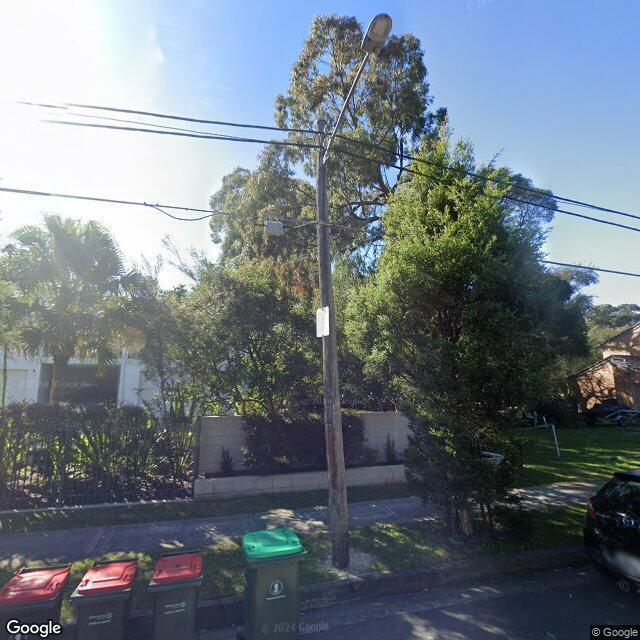streetlight: (321, 13, 395, 167)
timber-pole: (316, 119, 351, 571)
